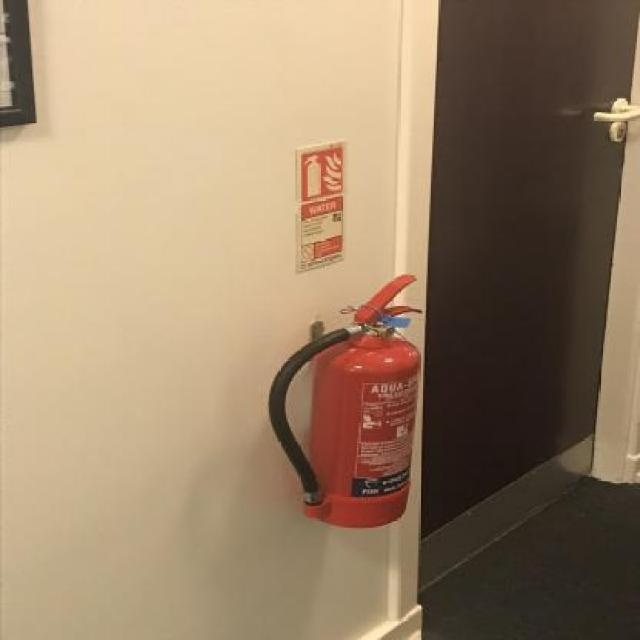fire extinguisher: (269, 274, 423, 531)
